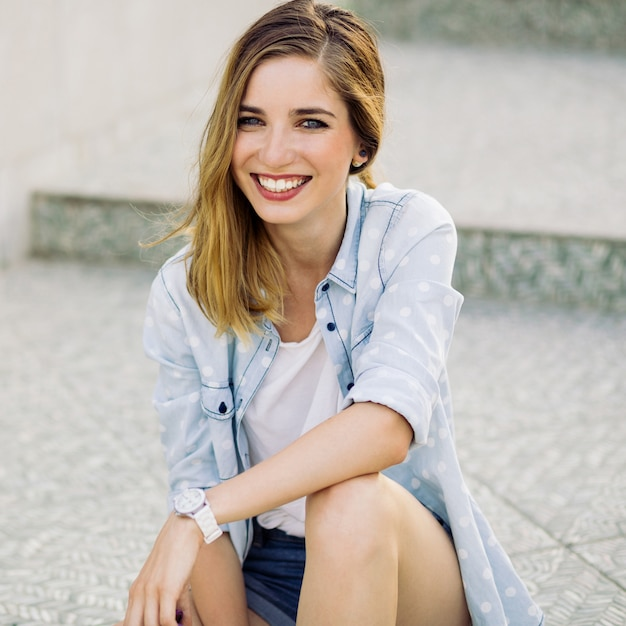teen: (186, 24, 384, 288)
